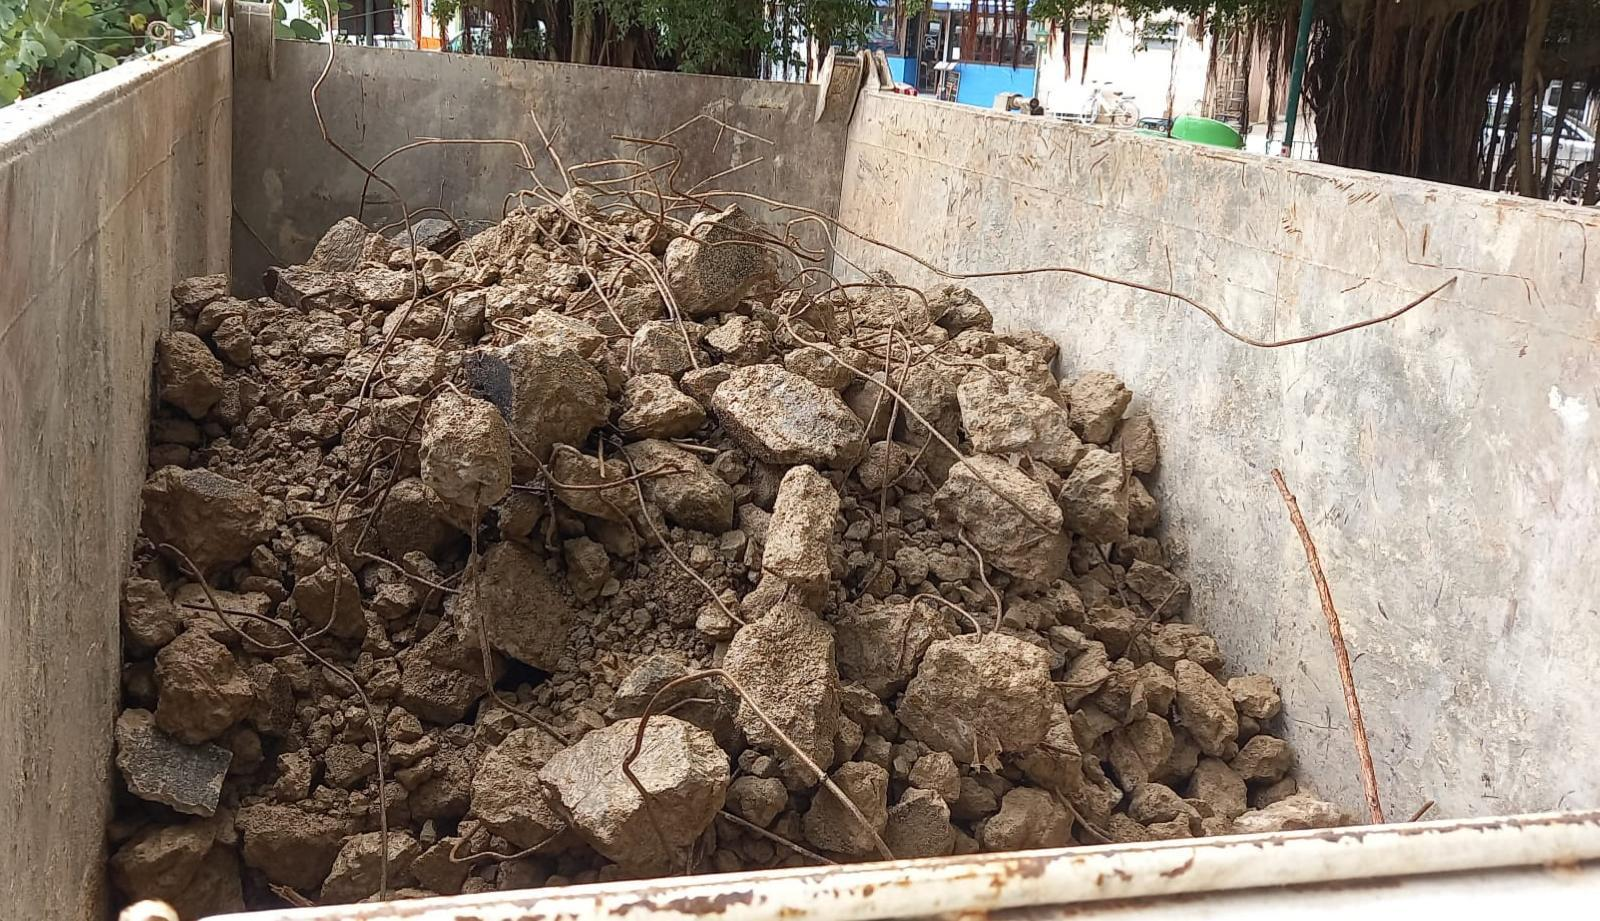dirt: (110, 186, 1353, 913)
stone: (537, 712, 731, 865), (894, 629, 1052, 765), (709, 361, 868, 469), (417, 389, 512, 508)
